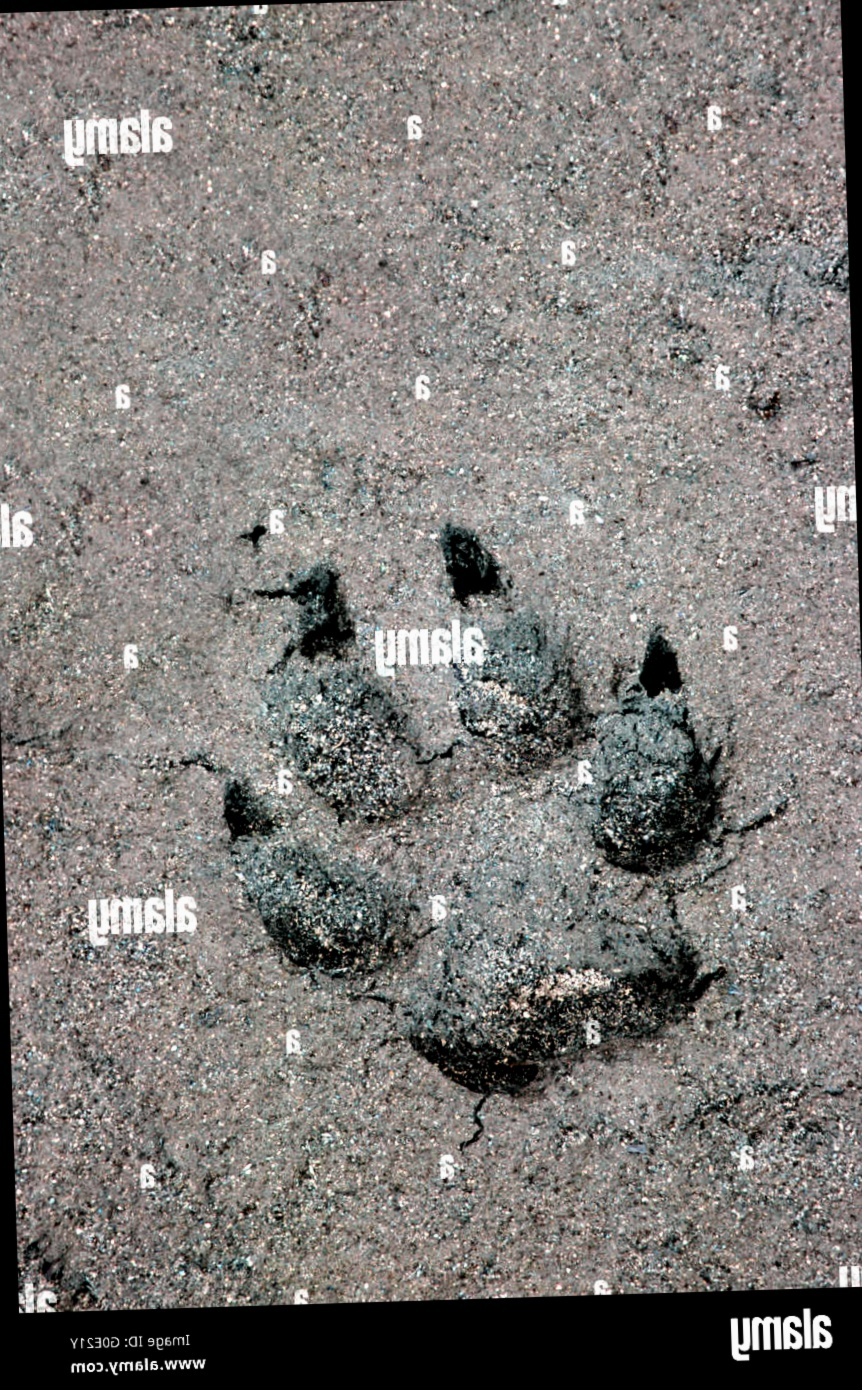loup: (93, 456, 684, 1156)
